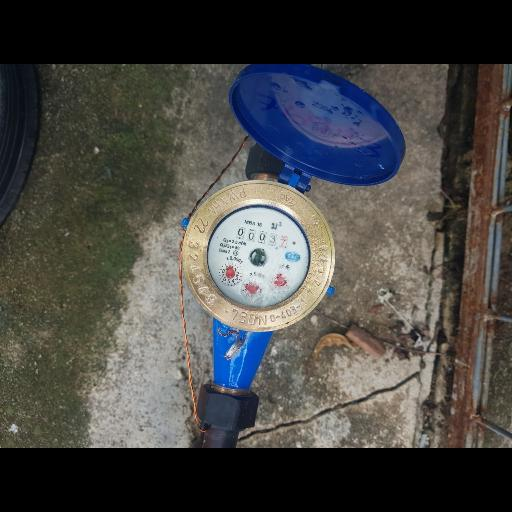0: (236, 226, 247, 240), (257, 230, 267, 244), (246, 229, 256, 242)
3: (268, 234, 278, 247)
7: (280, 235, 289, 249)
border_water_meter_number: (234, 224, 291, 251)
